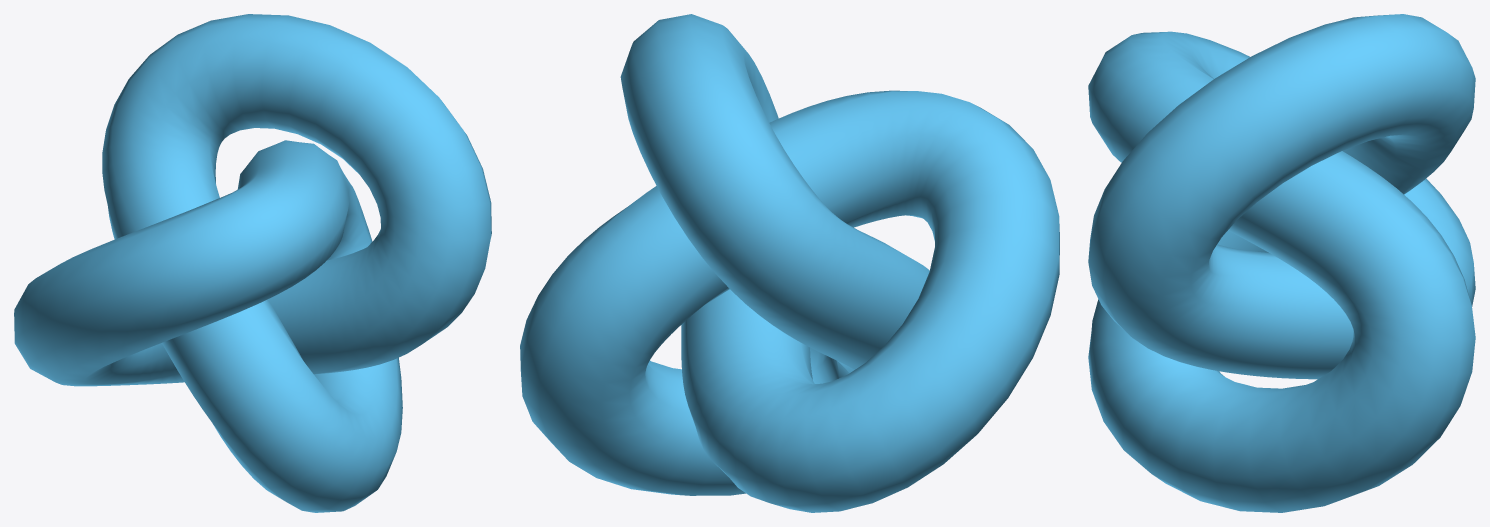
File: torusknot.gltf
The picture shows the model from 3 angles, left to right: view 1: azimuth 30°, elevation 25°; view 2: azimuth 150°, elevation 25°; view 3: azimuth 270°, elevation 25°; orthographic projection. The views are drawn at different scales.
Visible parts, largest first — view 1: default; view 2: default; view 3: default.
Boxes of the visible parts, bbox=[...] form: default: bbox=[14, 14, 491, 512]; default: bbox=[520, 14, 1059, 512]; default: bbox=[1088, 14, 1475, 512].
Bounding box in the file's own units: 47.33 × 50.19 × 37.4.
